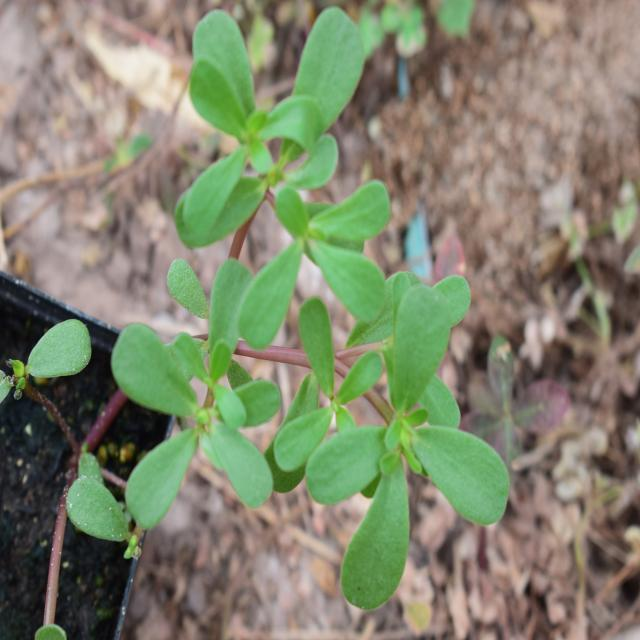purslane: (120, 7, 531, 598)
